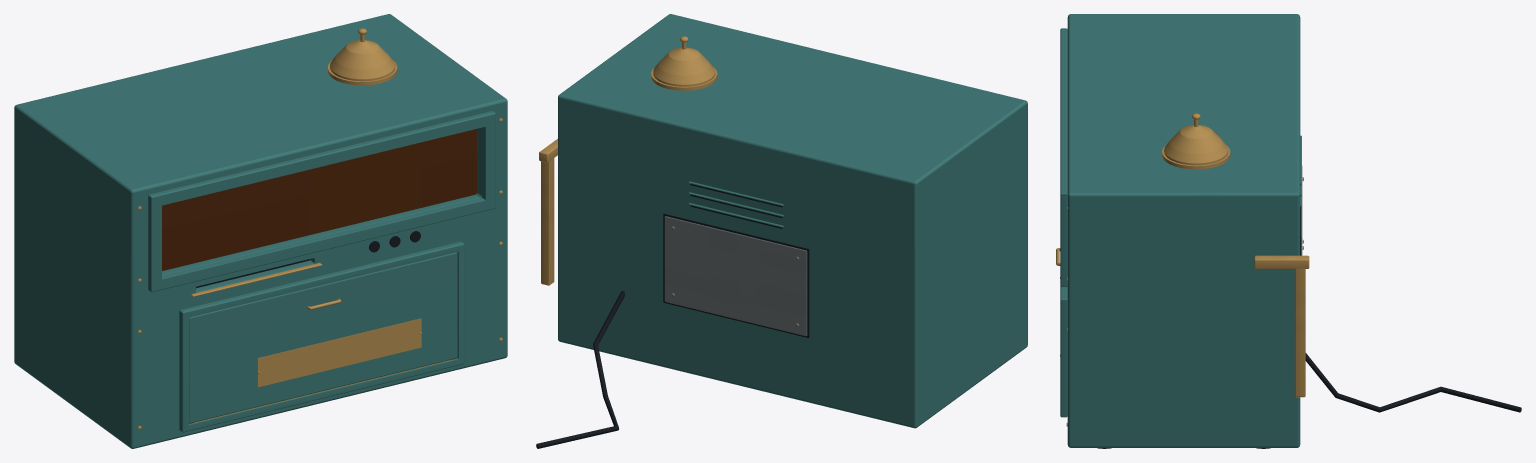
Rendered from machine.glb.
The picture shows the model from 3 angles, left to right: view 1: azimuth 30°, elevation 25°; view 2: azimuth 150°, elevation 25°; view 3: azimuth 270°, elevation 25°; orthographic projection. The views are drawn at different scales.
Parts seen in each view (by area): view 1: office_machine_teal, hatch_teal, office_machine_dark, hatch_brass, bell_brass, office_machine_brass; view 2: office_machine_teal, office_machine_steel, office_machine_dark, rear_link_brass, bell_brass; view 3: office_machine_teal, rear_link_brass, bell_brass, office_machine_dark.
Part boxes in pixels (bbox=[...]): office_machine_teal: bbox=[14, 14, 507, 448]; hatch_teal: bbox=[189, 252, 457, 423]; office_machine_dark: bbox=[162, 129, 477, 288]; hatch_brass: bbox=[257, 298, 421, 387]; bell_brass: bbox=[330, 28, 395, 81]; office_machine_brass: bbox=[137, 60, 502, 429]; office_machine_teal: bbox=[558, 14, 1027, 428]; office_machine_steel: bbox=[664, 216, 807, 336]; office_machine_dark: bbox=[536, 184, 809, 448]; rear_link_brass: bbox=[539, 139, 557, 285]; bell_brass: bbox=[653, 36, 715, 86]; office_machine_teal: bbox=[1060, 14, 1301, 447]; rear_link_brass: bbox=[1254, 255, 1309, 397]; bell_brass: bbox=[1164, 113, 1228, 165]; office_machine_dark: bbox=[1097, 184, 1521, 448].
Bounding box in the file's own units: 0.727 × 0.55 × 0.7613.
Materials: 4 (4 with a texture image).
